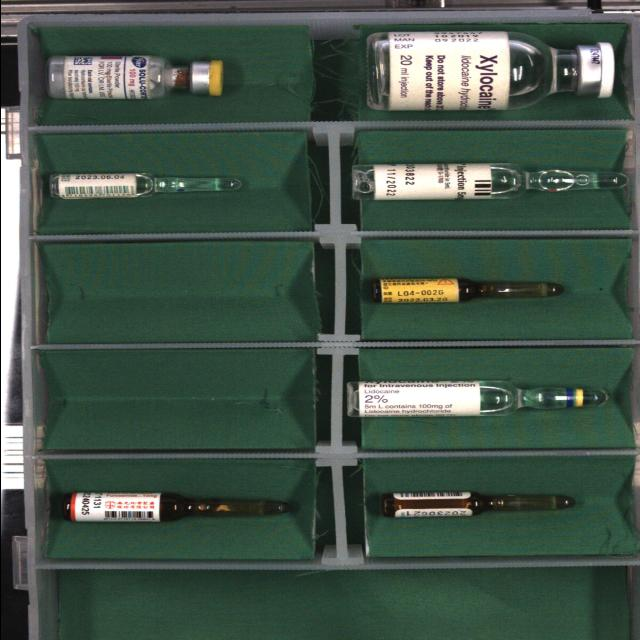Ampoules: (351, 163, 627, 200), (346, 381, 607, 417), (62, 492, 289, 522), (381, 491, 574, 517), (48, 173, 241, 199), (372, 278, 563, 302)
Vials: (366, 31, 614, 110), (47, 55, 222, 100)
